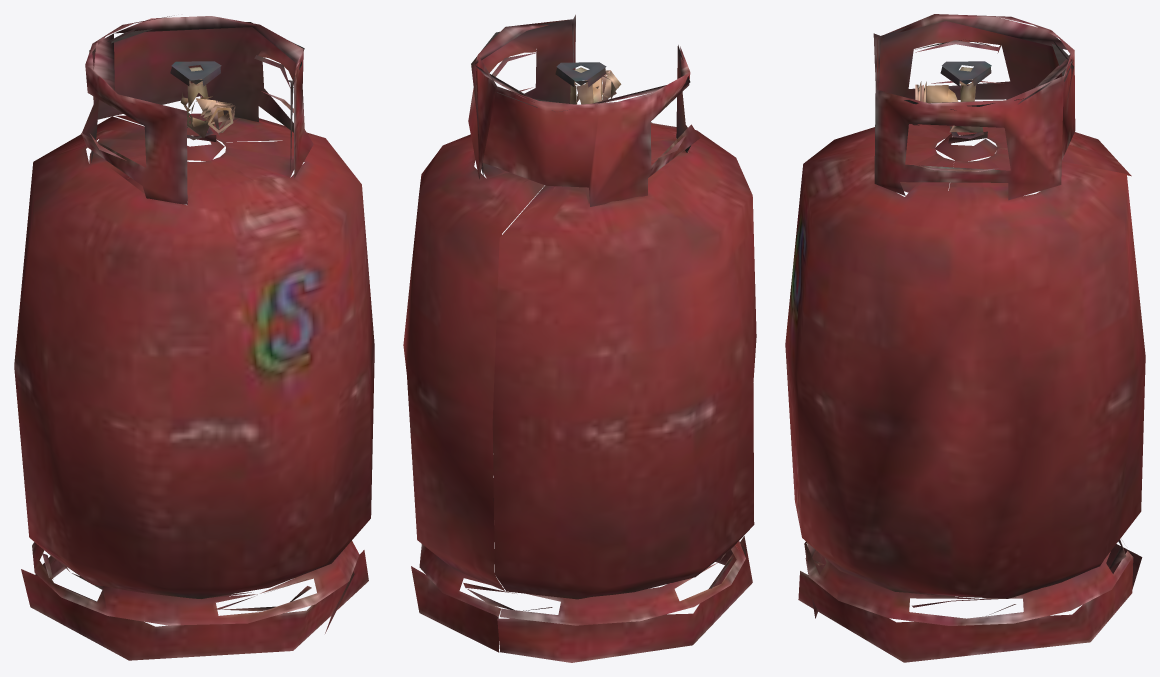
The model's file is propane_tank.glb.
3 views of the same model, side by side, from view 1: azimuth 30°, elevation 25°; view 2: azimuth 150°, elevation 25°; view 3: azimuth 270°, elevation 25° (orthographic).
Visible parts, largest first — view 1: propane_tank; view 2: propane_tank; view 3: propane_tank.
Part boxes in pixels (x1,y1,x2,y2): propane_tank: (14,15,374,660); propane_tank: (403,14,756,662); propane_tank: (785,14,1145,662).
Size of the model in its own units: 0.34 by 0.5546 by 0.3385.
Materials: 1 (1 with a texture image).
